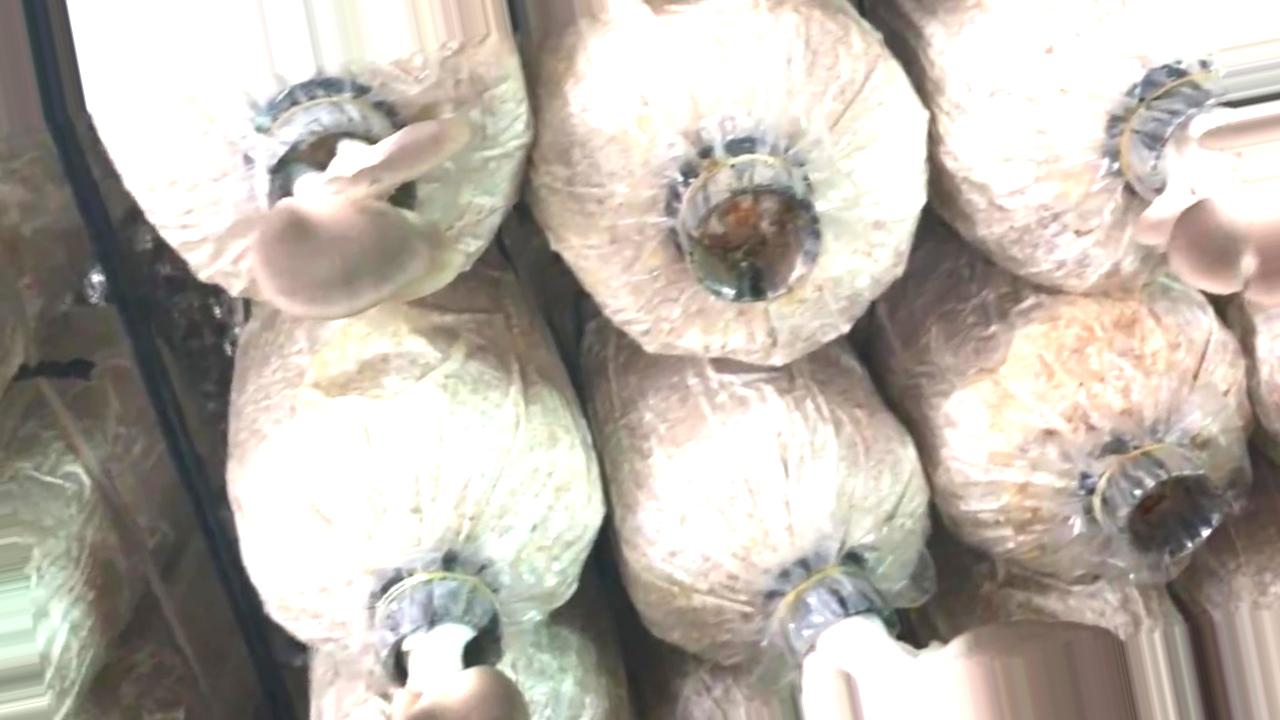nam: (773, 559, 1138, 716), (255, 95, 473, 320), (1118, 80, 1280, 305), (376, 573, 535, 720)
